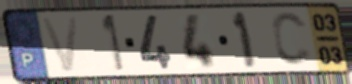1: (229, 10, 260, 71), (99, 12, 127, 75)
4: (180, 12, 220, 71), (138, 13, 177, 72)
C: (269, 10, 315, 69)
V: (38, 14, 81, 74)
